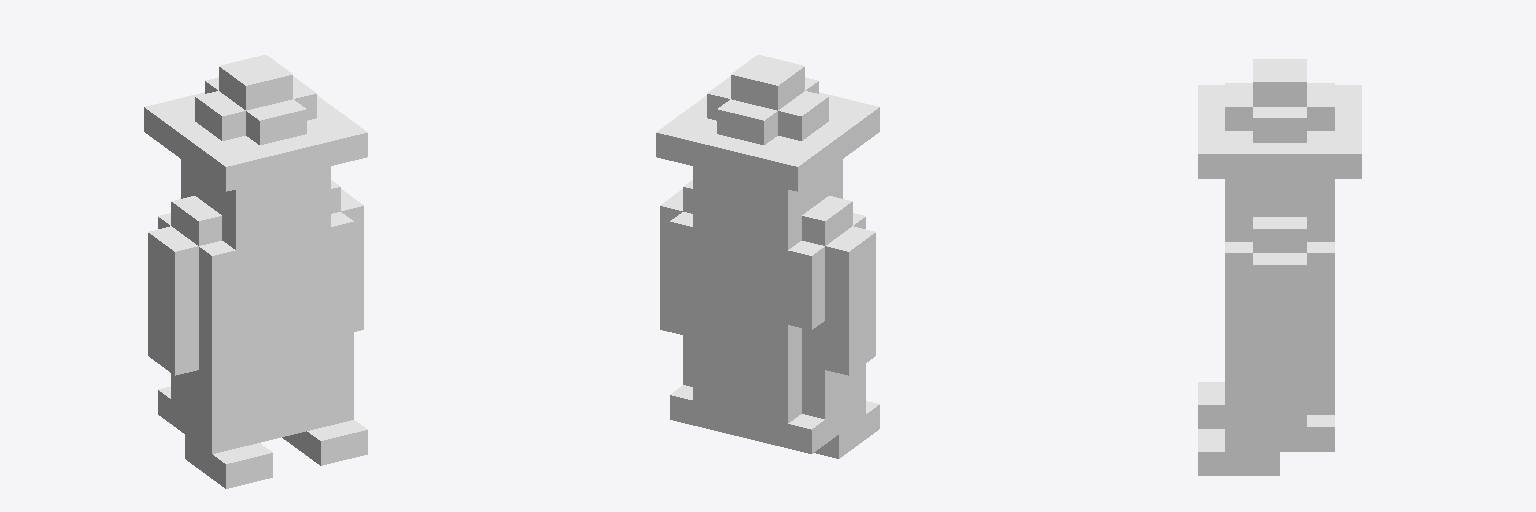
Rendered from human.obj.
3 renders of one model, left to right at view 1: azimuth 30°, elevation 25°; view 2: azimuth 150°, elevation 25°; view 3: azimuth 270°, elevation 25°, orthographic.
Bounding box in the file's own units: 8 × 15 × 6.